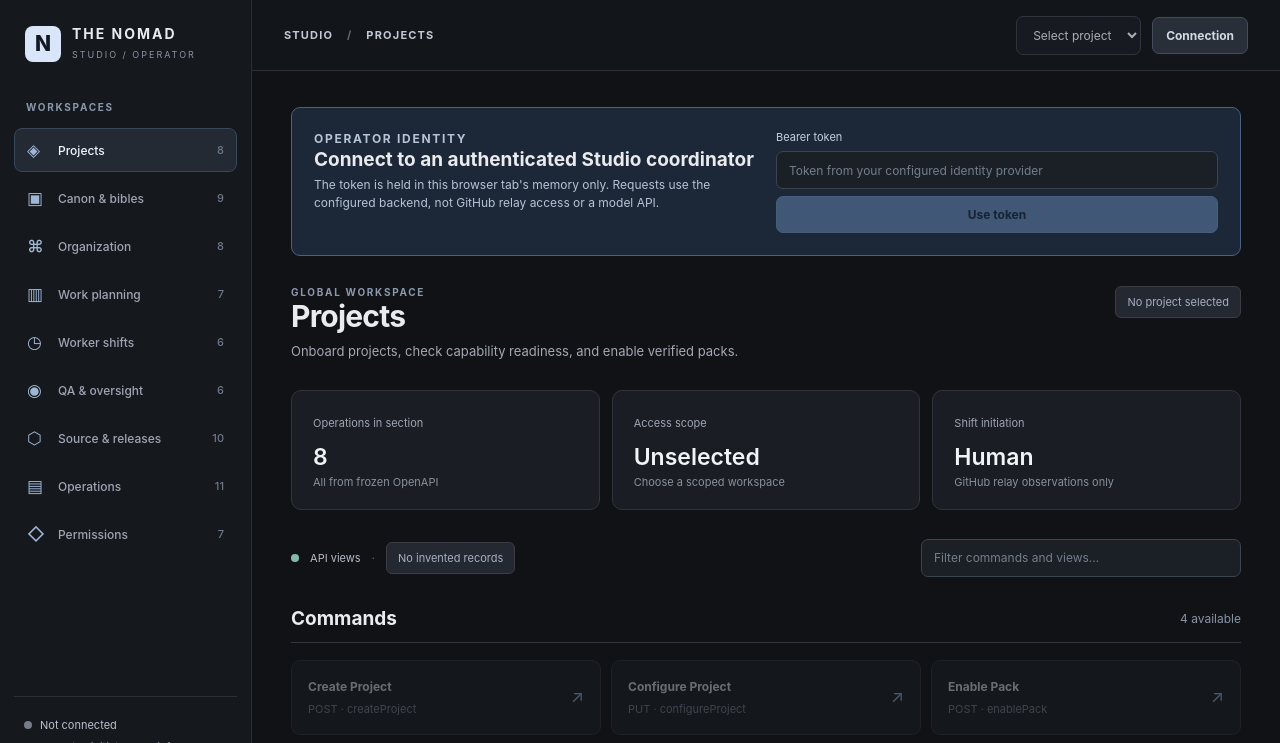
renders project-isolated operator cockpit, connects token and navigates sections
The width and height of the screenshot is (1280, 743).
Expected: the text "Not connected" is shown, [40,718,117,732]
Step 1. Type "temporary-token" into the password field labelled "Bearer token" → (997, 170), box [776,151,1218,189]
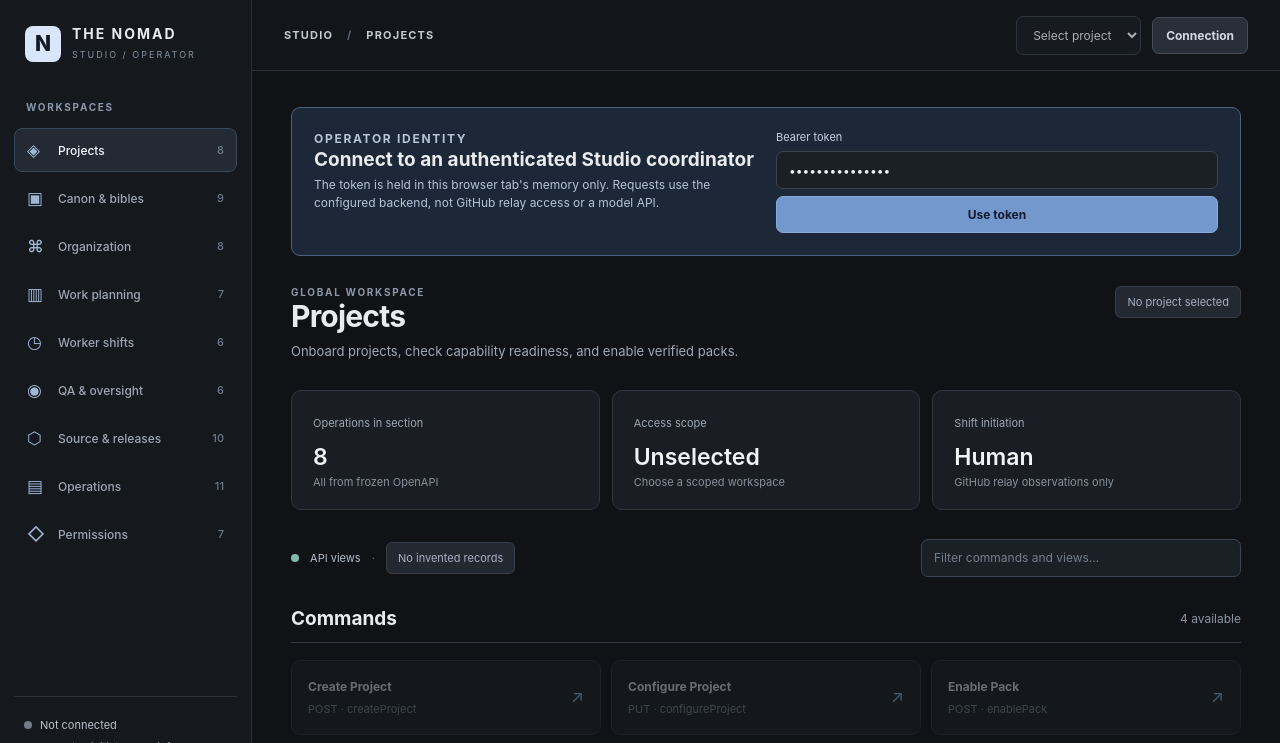
Step 2. Click the button "Use token" → (997, 214), box [776,196,1218,233]
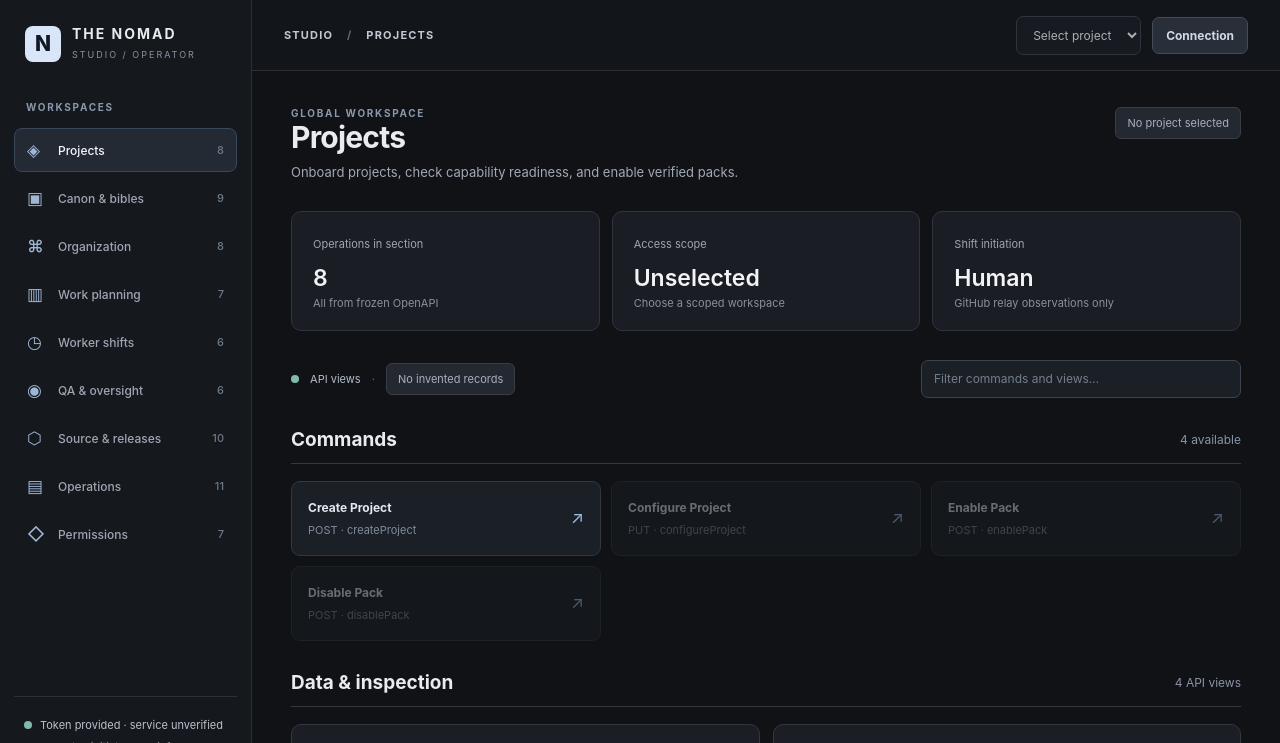
Expected: the text "Token provided" is shown, [40,718,223,732]
Step 3. Click the button "◷ Worker shifts 6" → (126, 342), box [14,320,237,364]
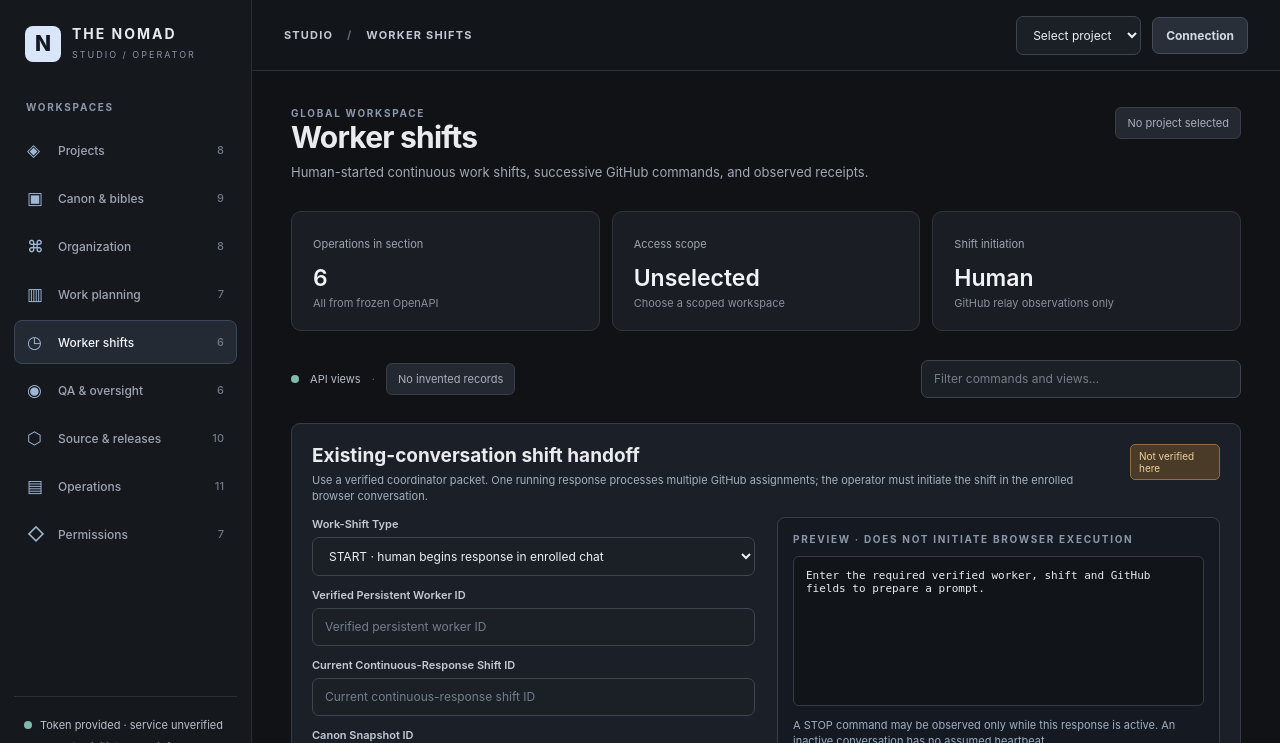
Expected: the heading "Existing-conversation shift handoff" is shown, [312,444,640,466]
Step 4. Click the button "▣ Canon & bibles 9" → (126, 198), box [14,176,237,220]
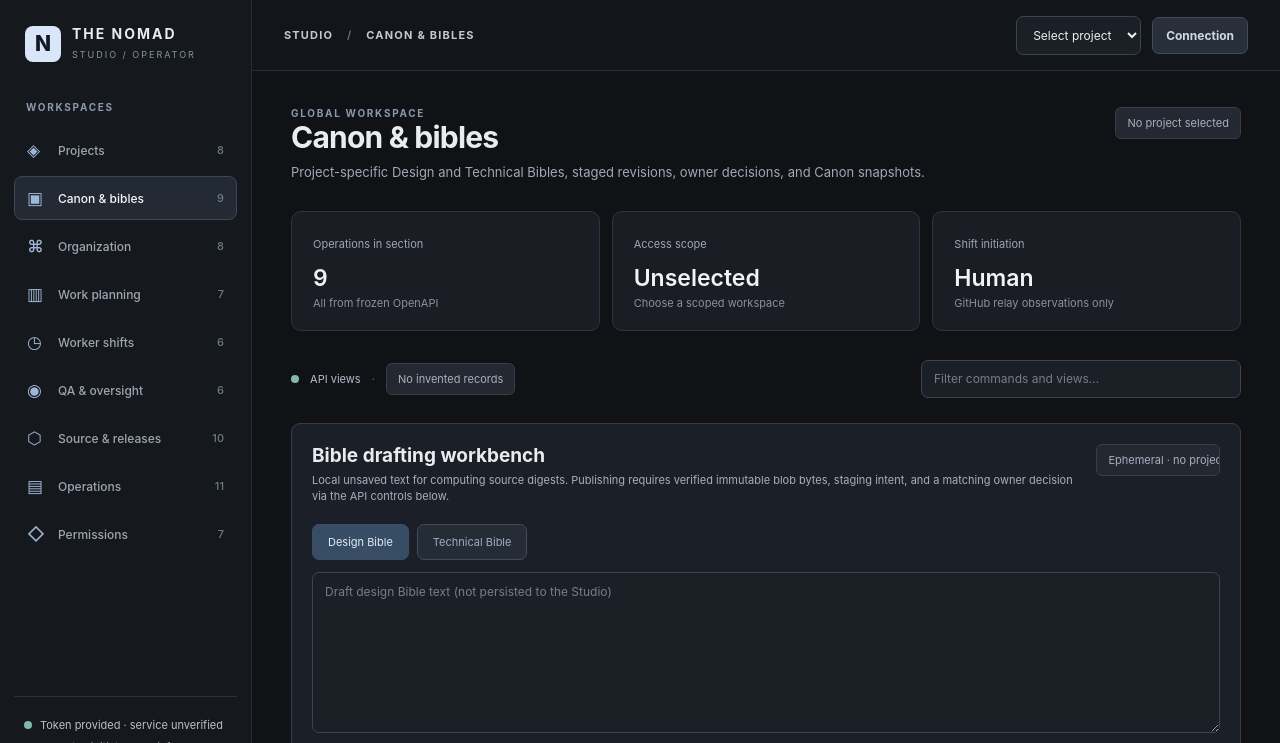
Expected: the heading "Bible drafting workbench" is shown, [312,444,545,466]
Step 5. Type "not-a-command" into the field named "Filter operations" → (1081, 378), box [921,360,1241,398]
(page scrolled)
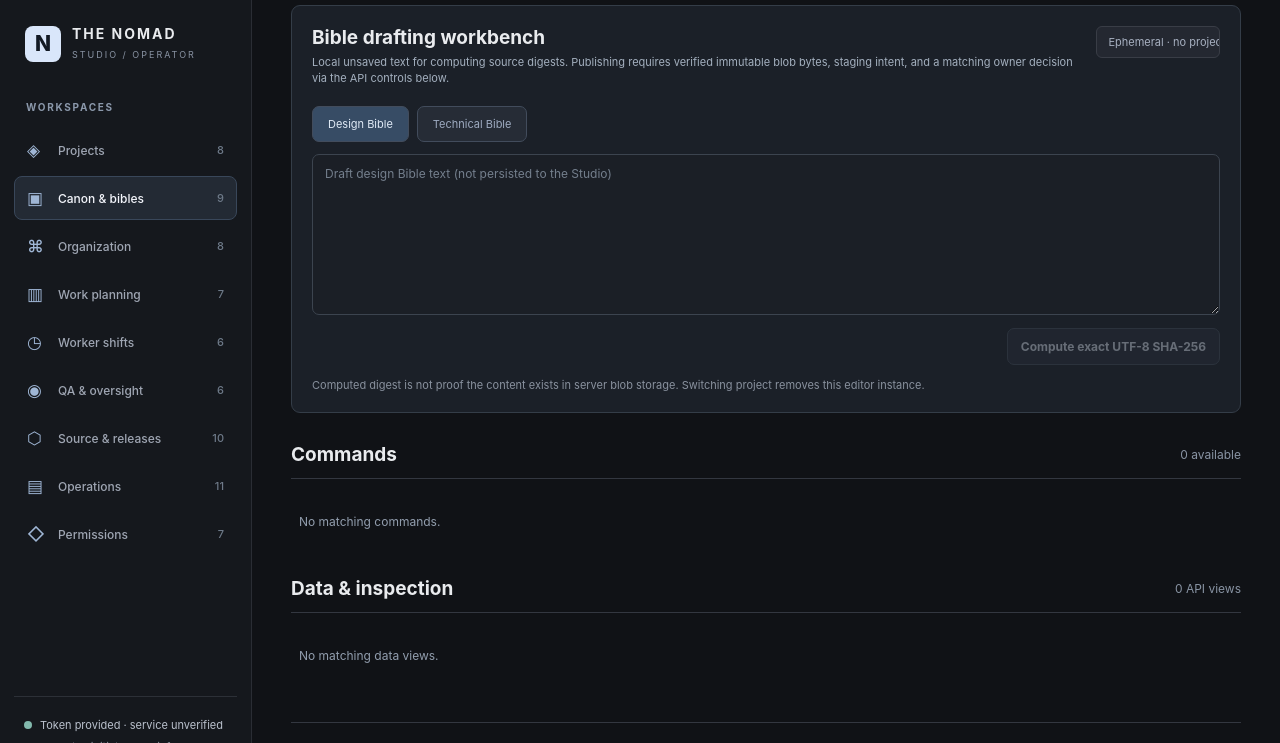
Expected: the text "No matching commands." is shown, [299,514,440,529]
